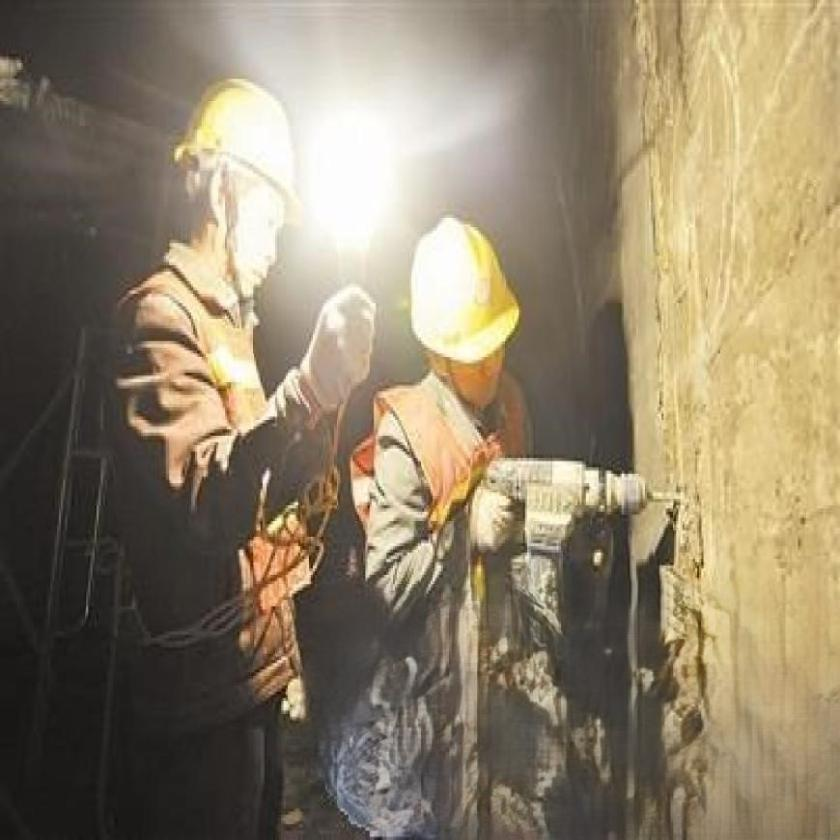Con_casco: (170, 73, 302, 317), (403, 215, 521, 433)
